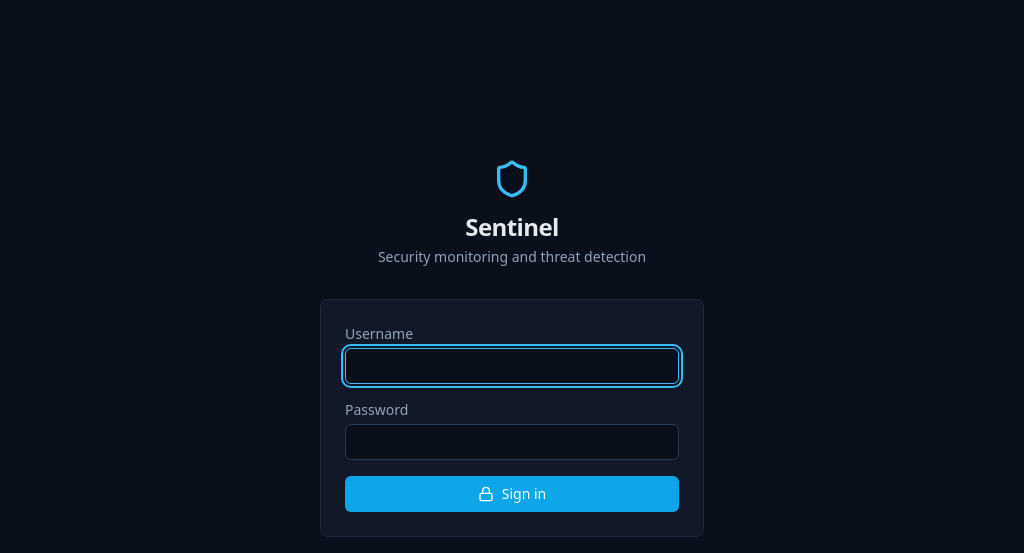
Test case: authentication › signs in and lands on the dashboard
In the field labelled "Username": (512, 366) [345,348,679,384], type "viewer.user"
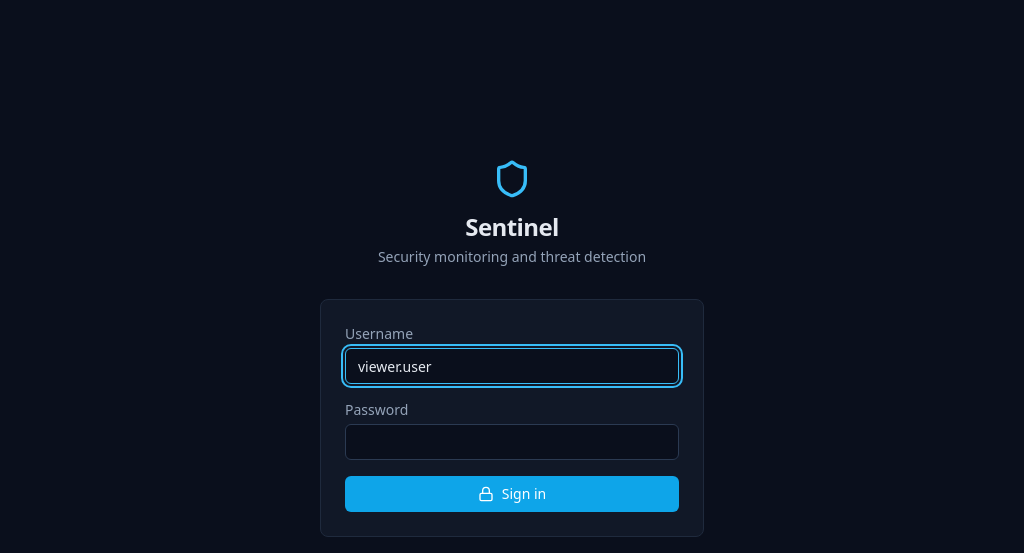
In the password field labelled "Password": (512, 442) [345,424,679,460], type "Correct-Horse-42!"
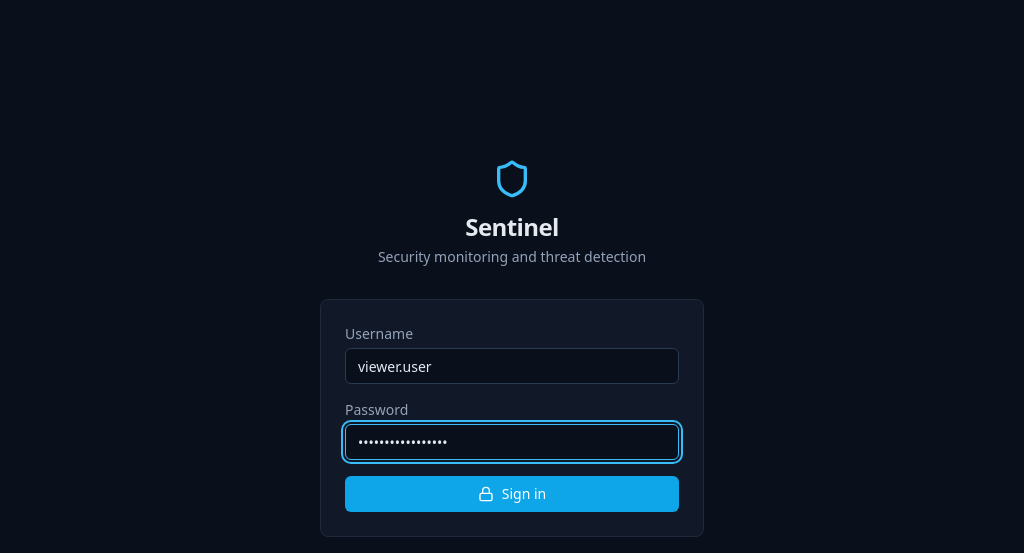
Click the button "Sign in": click(512, 494) [345,476,679,512]
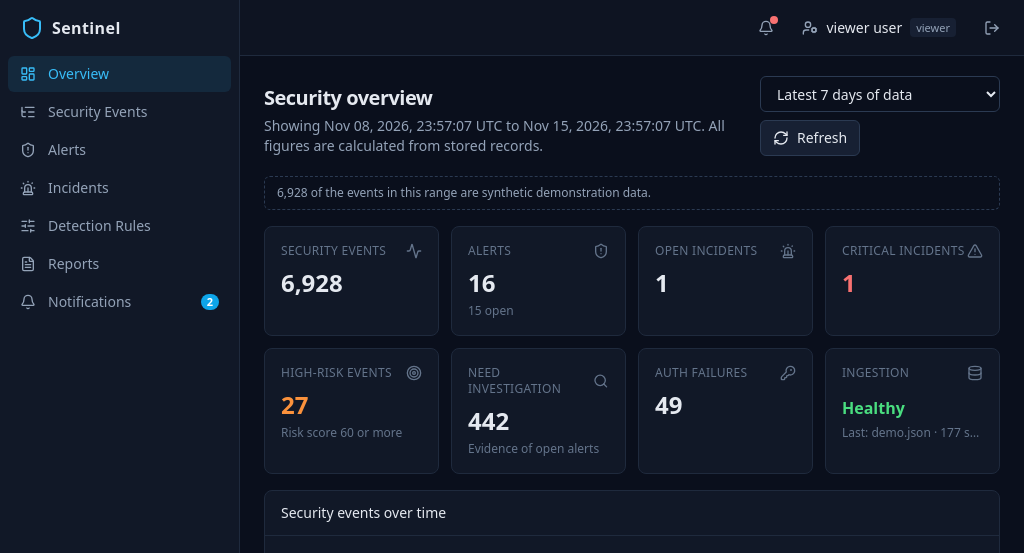
Expected: the heading "Security overview" is shown, [264,84,432,111]
